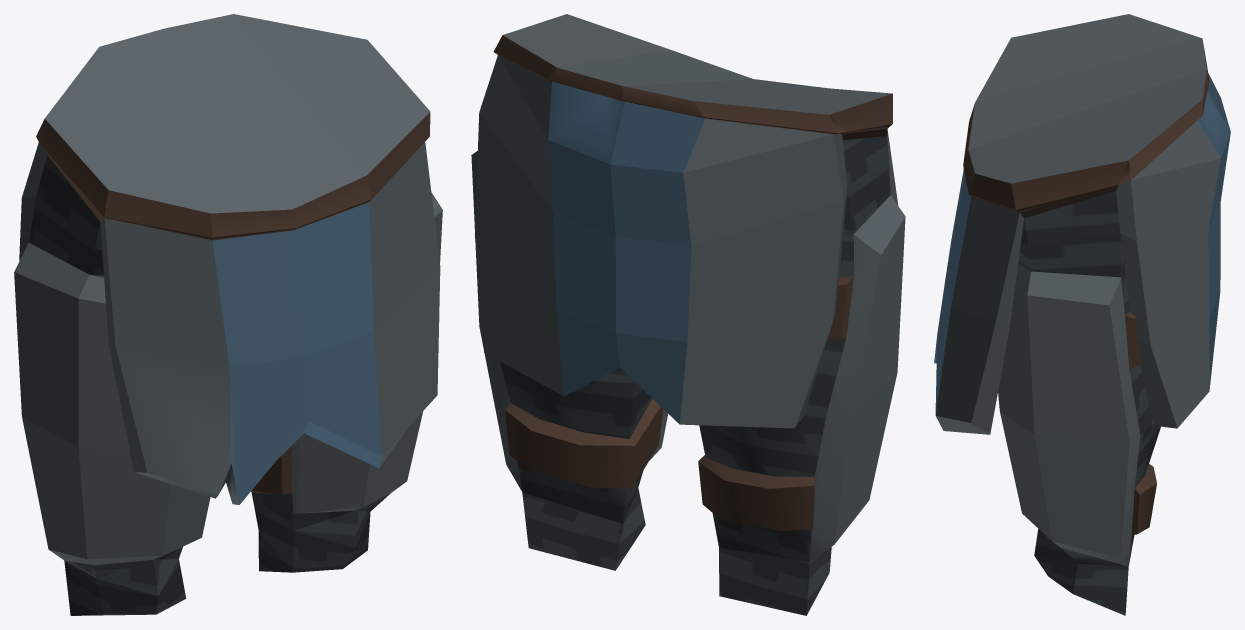
File: Chr_Hips_Female_18_Static.fbx
The picture shows the model from 3 angles, left to right: view 1: azimuth 30°, elevation 25°; view 2: azimuth 150°, elevation 25°; view 3: azimuth 270°, elevation 25°; orthographic projection. The views are drawn at different scales.
Visible parts, largest first — view 1: Chr_Hips_Female_18_Static; view 2: Chr_Hips_Female_18_Static; view 3: Chr_Hips_Female_18_Static.
Part boxes in pixels (left/top/right/bottom): Chr_Hips_Female_18_Static: left=14, top=14, right=442, bottom=615; Chr_Hips_Female_18_Static: left=471, top=14, right=905, bottom=615; Chr_Hips_Female_18_Static: left=934, top=14, right=1230, bottom=615.
Size of the model in its own units: 0.4684 by 0.5783 by 0.3199.
